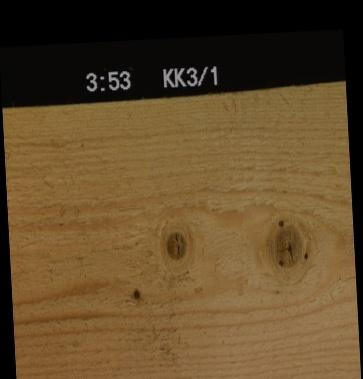dry_knot: (131, 286, 141, 300)
sound_knot: (270, 215, 307, 267), (163, 228, 187, 260)
